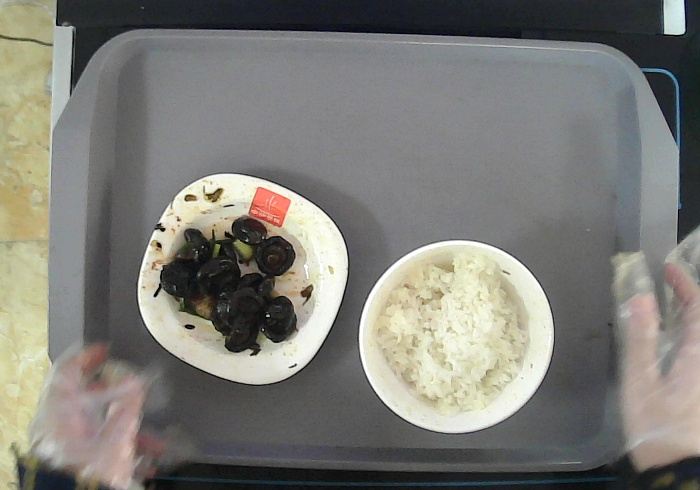SHKJ-Bai_Se_Si_Fang_Cai_Die: (135, 169, 348, 388)
SHKJ-Fan_Wan: (355, 237, 557, 435)
